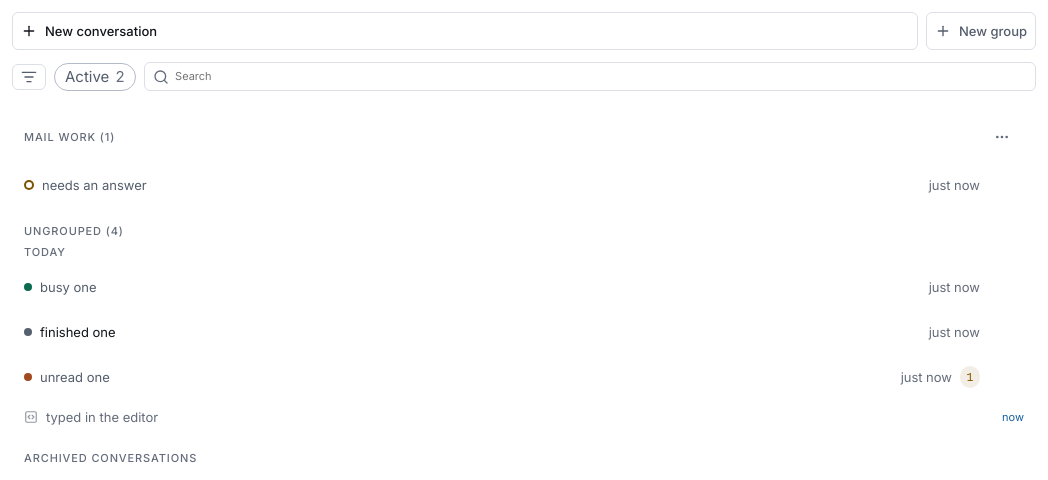
Test: SessionColumn › toggles the active filter and searches
The width and height of the screenshot is (1048, 480).
Click the button "Active 2" at (95, 77), box left=54, top=63, right=136, bottom=91
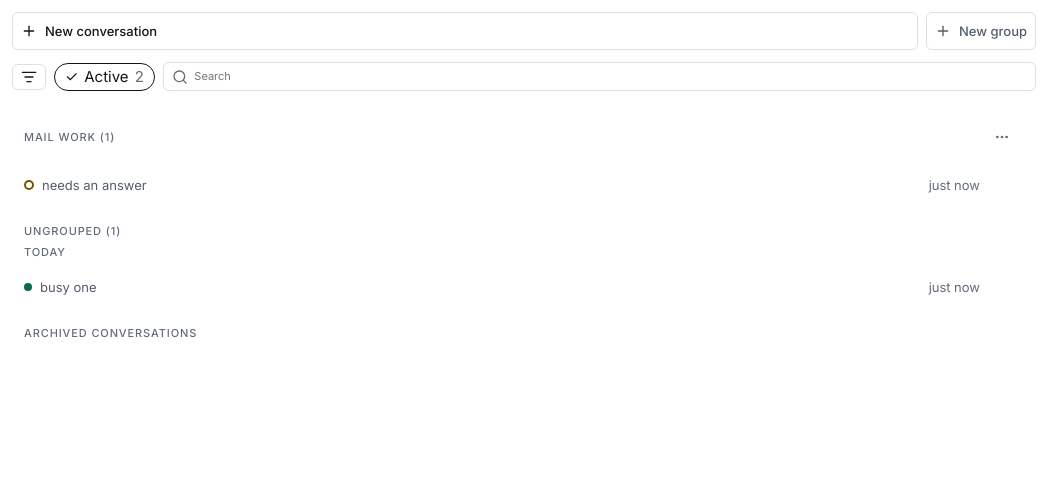
Check: the text "busy one" is shown, box left=40, top=279, right=96, bottom=295
Check: the link "finished one" is gone
Click the button "Active 2" at (105, 77), box left=54, top=63, right=155, bottom=91
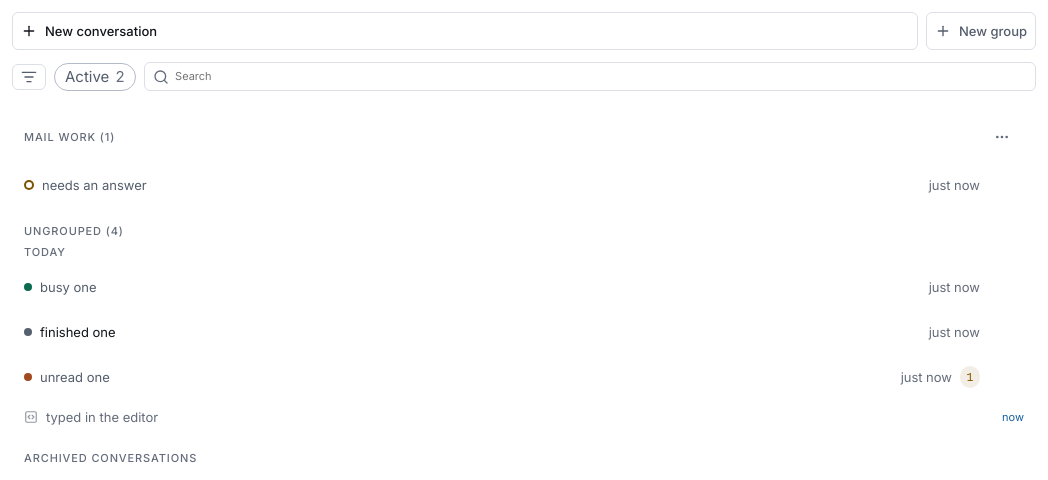
Check: the text "finished one" is shown, box left=40, top=324, right=116, bottom=340
Type "UNREAD" into the field named "Search conversations" at (600, 77), box left=173, top=67, right=1027, bottom=86
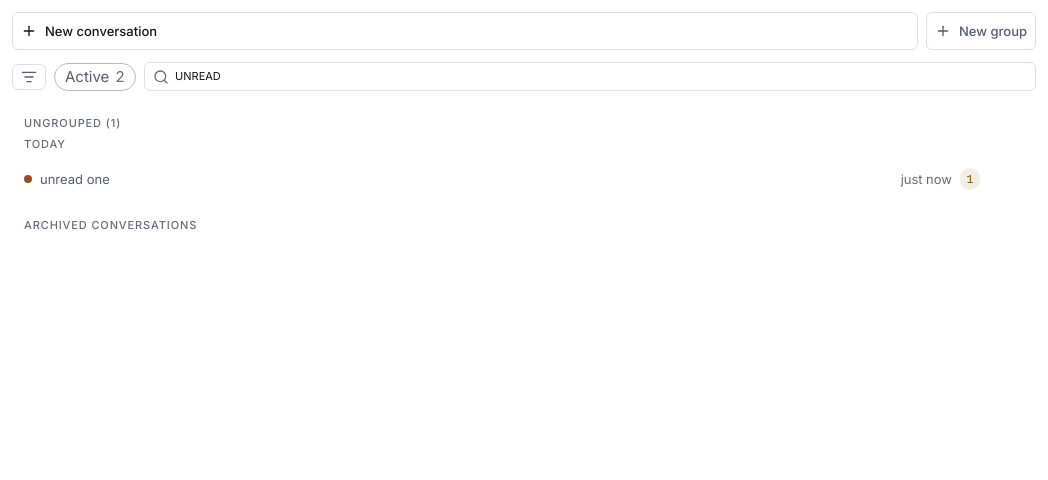
Check: the text "unread one" is shown, box left=40, top=171, right=110, bottom=187
Check: the link "busy one" is gone
